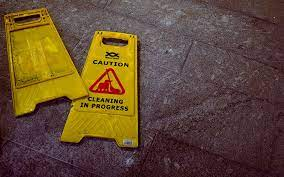wet caution sign: (0, 0, 149, 167)
